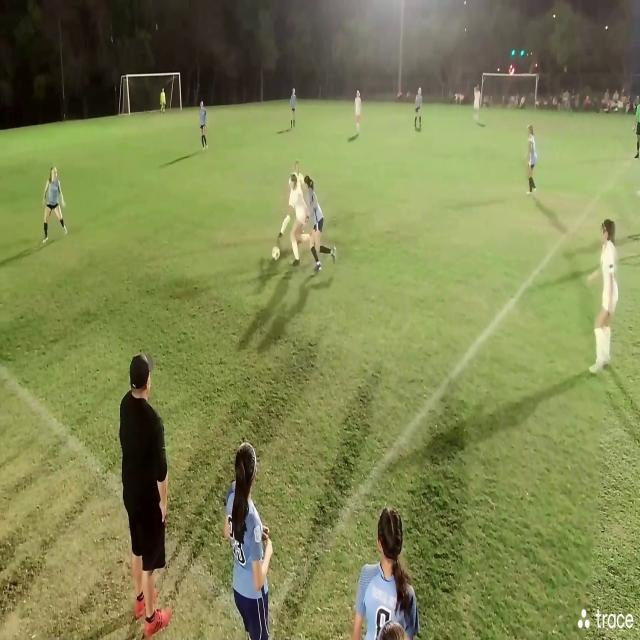ball: (271, 245, 281, 263)
team1: (222, 432, 286, 640), (303, 171, 338, 273), (44, 168, 68, 240), (525, 124, 539, 197), (198, 100, 210, 152), (414, 87, 424, 135), (288, 85, 298, 132)
team2: (594, 221, 622, 375), (290, 175, 307, 264), (472, 80, 483, 128), (354, 88, 364, 137)
